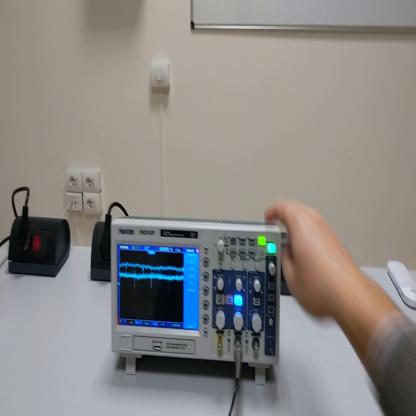hand: (264, 200, 351, 319)
oscilloscope: (109, 216, 280, 385)
socket: (6, 217, 73, 280), (93, 224, 109, 283)
